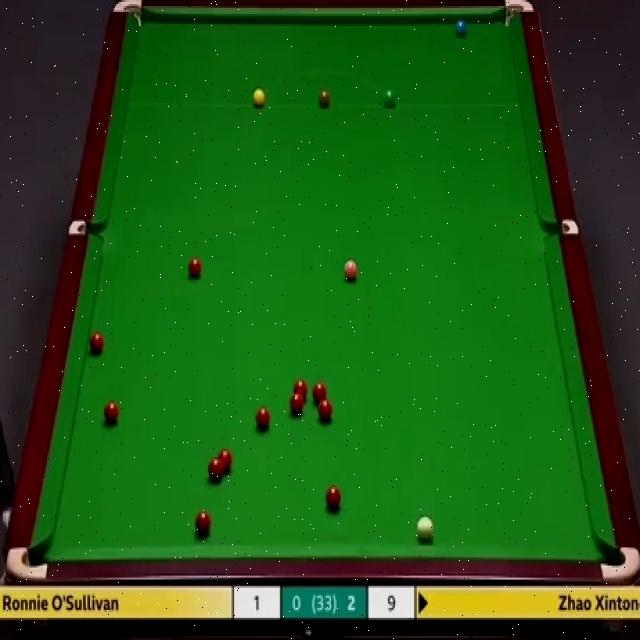blue-ball: (456, 19, 468, 40)
brown-ball: (318, 89, 330, 108)
green-ball: (382, 89, 395, 108)
pink-ball: (344, 262, 358, 284)
red-ball: (193, 512, 212, 537), (318, 397, 334, 425), (89, 333, 105, 358), (218, 448, 232, 475), (255, 404, 270, 429), (105, 399, 120, 424), (325, 485, 342, 507), (208, 458, 223, 482), (290, 394, 306, 416), (292, 379, 308, 399), (313, 382, 327, 403), (188, 260, 202, 278)
white-ball: (416, 515, 433, 543)
yellow-ball: (252, 89, 266, 108)
